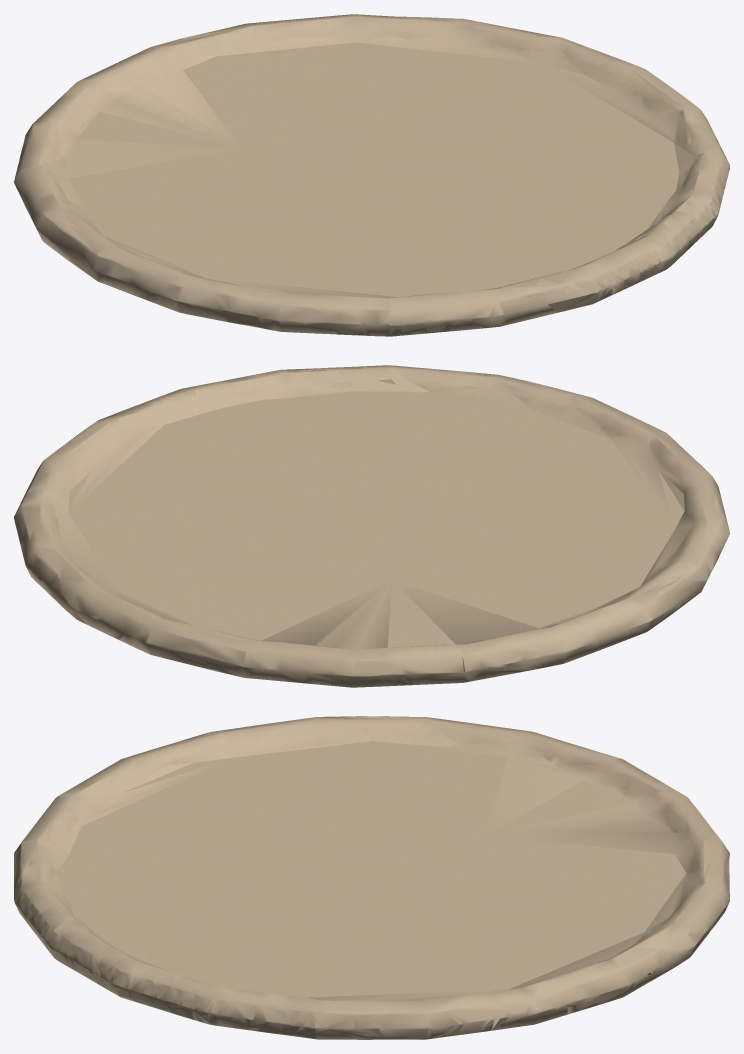
The model's file is Meshy_AI_Faceted_Sandstone_Pla_0823043946_texture.fbx.
The picture shows the model from 3 angles, top to bottom: view 1: azimuth 30°, elevation 25°; view 2: azimuth 150°, elevation 25°; view 3: azimuth 270°, elevation 25°; orthographic projection.
Visible parts, largest first — view 1: output_unwrapped; view 2: output_unwrapped; view 3: output_unwrapped.
Part boxes in pixels (bbox=[...]): output_unwrapped: bbox=[14, 14, 729, 336]; output_unwrapped: bbox=[14, 365, 729, 687]; output_unwrapped: bbox=[14, 716, 729, 1039].
Bounding box in the file's own units: 190 × 21.81 × 190.
Materials: 1 (1 with a texture image).
